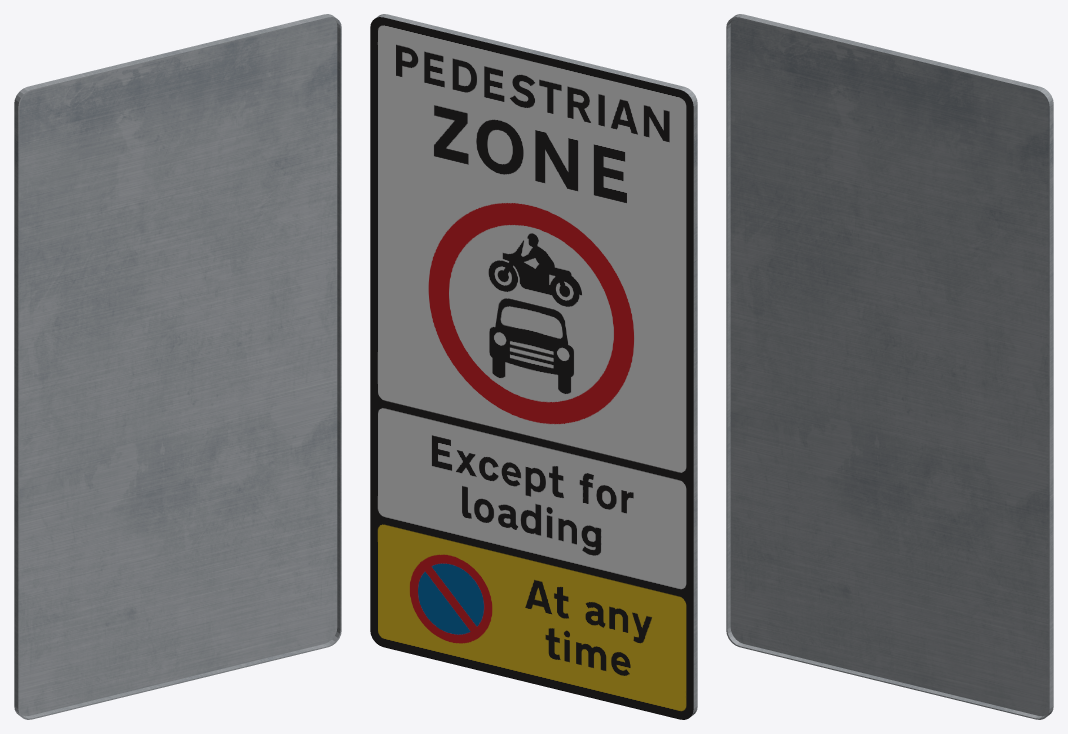
File: Restrictions_of_a_pedestrian_zone.fbx
3 renders of one model, left to right at view 1: azimuth 30°, elevation 25°; view 2: azimuth 150°, elevation 25°; view 3: azimuth 330°, elevation 25°, orthographic.
Visible parts, largest first — view 1: Restrictions of a pedestrian zone; view 2: Restrictions of a pedestrian zone; view 3: Restrictions of a pedestrian zone.
Part boxes in pixels (x1,y1,x2,y2): Restrictions of a pedestrian zone: [14, 14, 341, 719]; Restrictions of a pedestrian zone: [370, 14, 697, 719]; Restrictions of a pedestrian zone: [726, 14, 1053, 719].
Bounding box in the file's own units: 0.02 × 0.9 × 1.68.
